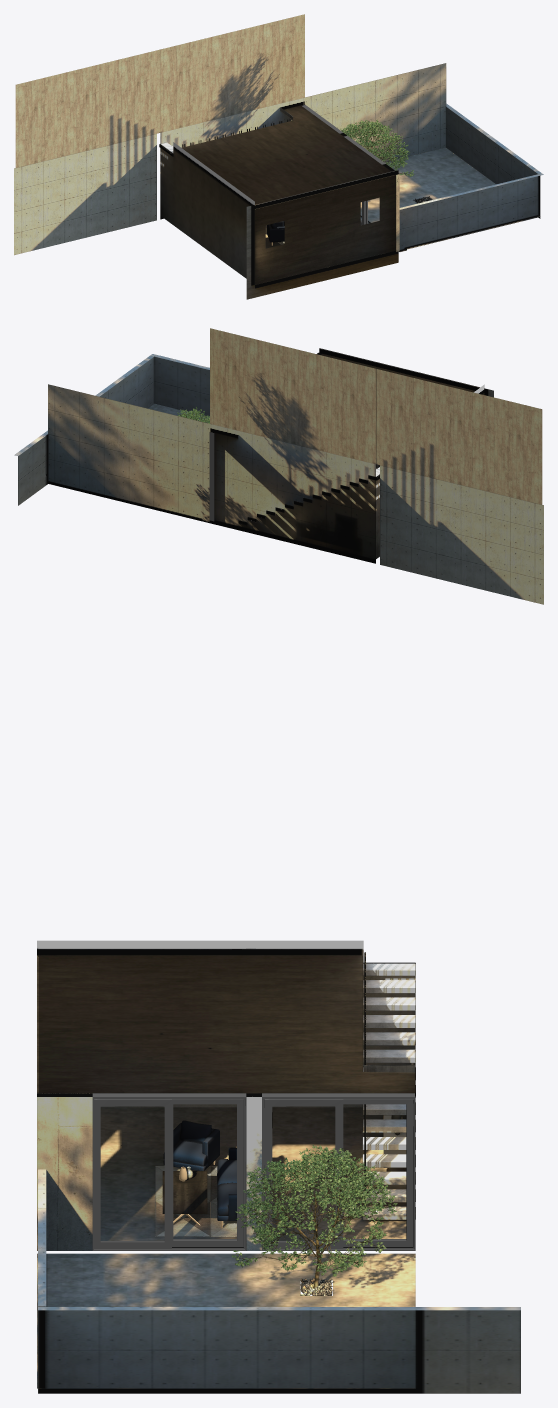
File: best.gltf
3 renders of one model, top to bottom at view 1: azimuth 30°, elevation 25°; view 2: azimuth 150°, elevation 25°; view 3: azimuth 270°, elevation 25°, orthographic. The views are drawn at different scales.
Parts seen in each view (by area): view 1: Plane, Wall.014, Wall.012, Wall.011, Roof.001, Wall.010, Wall.001, Wall.003, Floor.001, Wall.009, Wall.002, Fall Leaf Small.4511 (+1 smaller); view 2: Wall.014, Wall.010, Wall.012, Wall.011, Wall.002, Wall.009, Wall.003, Plane, corner top left frame.001, Roof.001, Stairs.002, Wall.001; view 3: Roof.001, Wall.009, Floor.001, Floor.002, Fall Leaf Small.4511, Wall.005, Wall.001, Stairs.002, Tree Beech.001, mullion right fix, Stairs.001, mullion right fix.001 (+9 smaller).
Boxes of the visible parts, x1=… form: Plane: x1=246, y1=170, x2=398, y2=299; Wall.014: x1=14, y1=133, x2=156, y2=255; Wall.012: x1=15, y1=49, x2=160, y2=167; Wall.011: x1=160, y1=14, x2=304, y2=132; Roof.001: x1=181, y1=106, x2=398, y2=209; Wall.010: x1=303, y1=63, x2=446, y2=162; Wall.001: x1=160, y1=142, x2=254, y2=284; Wall.003: x1=399, y1=174, x2=539, y2=249; Floor.001: x1=360, y1=147, x2=540, y2=251; Wall.009: x1=446, y1=103, x2=543, y2=218; Wall.002: x1=160, y1=98, x2=303, y2=219; Fall Leaf Small.4511: x1=340, y1=119, x2=413, y2=176; Wall.014: x1=380, y1=465, x2=543, y2=604; Wall.010: x1=48, y1=384, x2=211, y2=523; Wall.012: x1=376, y1=369, x2=542, y2=504; Wall.011: x1=210, y1=328, x2=375, y2=463; Wall.002: x1=212, y1=424, x2=375, y2=563; Wall.009: x1=14, y1=354, x2=156, y2=505; Wall.003: x1=154, y1=355, x2=209, y2=416; Plane: x1=319, y1=348, x2=493, y2=397; corner top left frame.001: x1=209, y1=432, x2=214, y2=521; Roof.001: x1=317, y1=352, x2=474, y2=457; Stairs.002: x1=285, y1=467, x2=379, y2=509; Wall.001: x1=376, y1=384, x2=484, y2=558; Roof.001: x1=37, y1=955, x2=414, y2=1096; Wall.009: x1=38, y1=1307, x2=520, y2=1393; Floor.001: x1=37, y1=1253, x2=415, y2=1388; Floor.002: x1=100, y1=1107, x2=406, y2=1240; Fall Leaf Small.4511: x1=231, y1=1145, x2=397, y2=1276; Wall.005: x1=37, y1=1093, x2=92, y2=1250; Wall.001: x1=37, y1=940, x2=415, y2=1107; Stairs.002: x1=362, y1=962, x2=415, y2=1132; Tree Beech.001: x1=236, y1=1152, x2=392, y2=1288; mullion right fix: x1=94, y1=1099, x2=171, y2=1249; Stairs.001: x1=362, y1=1137, x2=415, y2=1219; mullion right fix.001: x1=264, y1=1099, x2=343, y2=1249.
Size of the model in its own units: 18.06 by 7.1 by 8.69.
49 materials, 39 textured.
